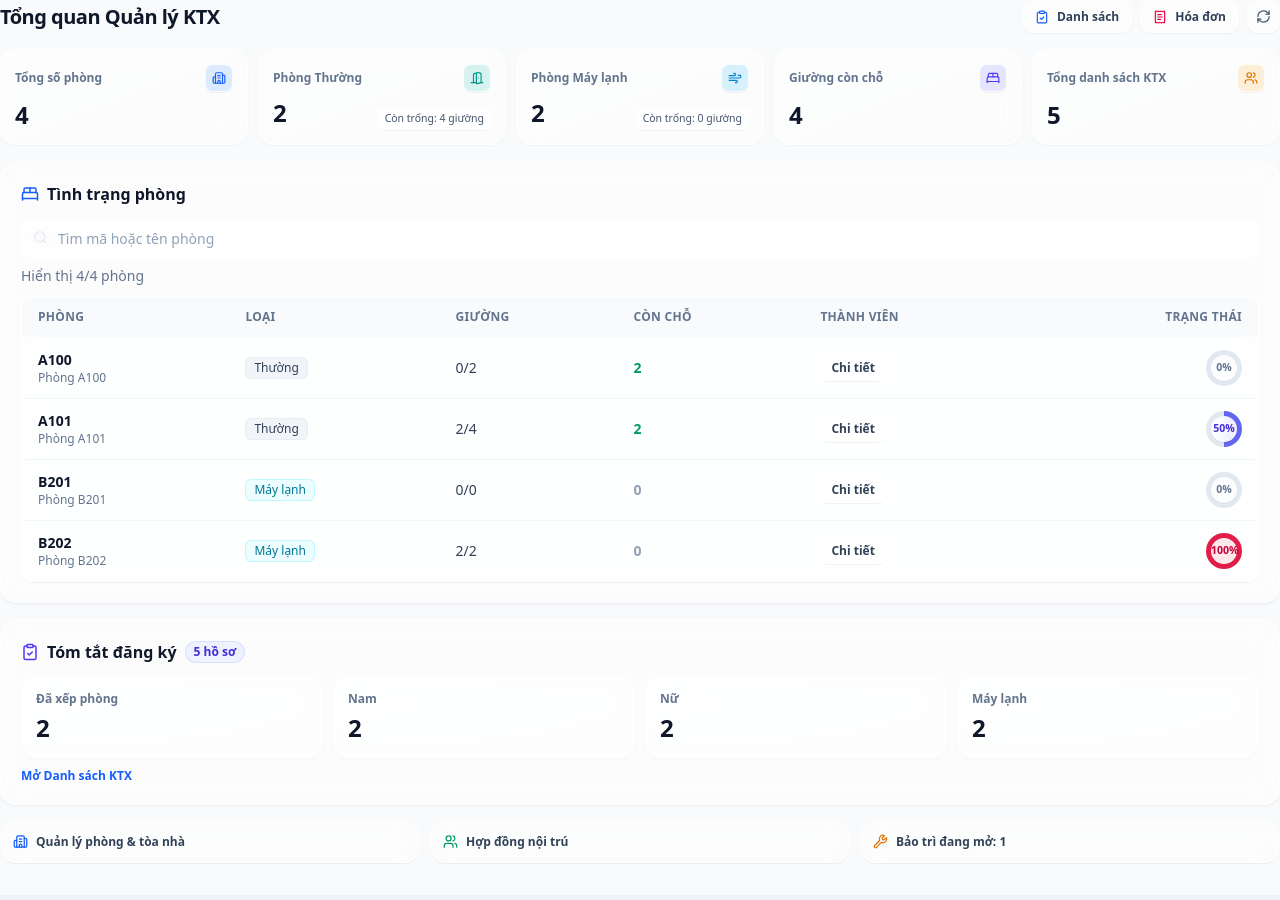
Scenario: DormitoryOverviewPage › does not render a leader marker when every member is an ordinary member
Check: the heading "Tổng quan Quản lý KTX" is shown, box 0,2 -> 220,30
Click the button with aria-label "Xem thành viên phòng A101".
click(853, 429)  # box 820,416 -> 886,442
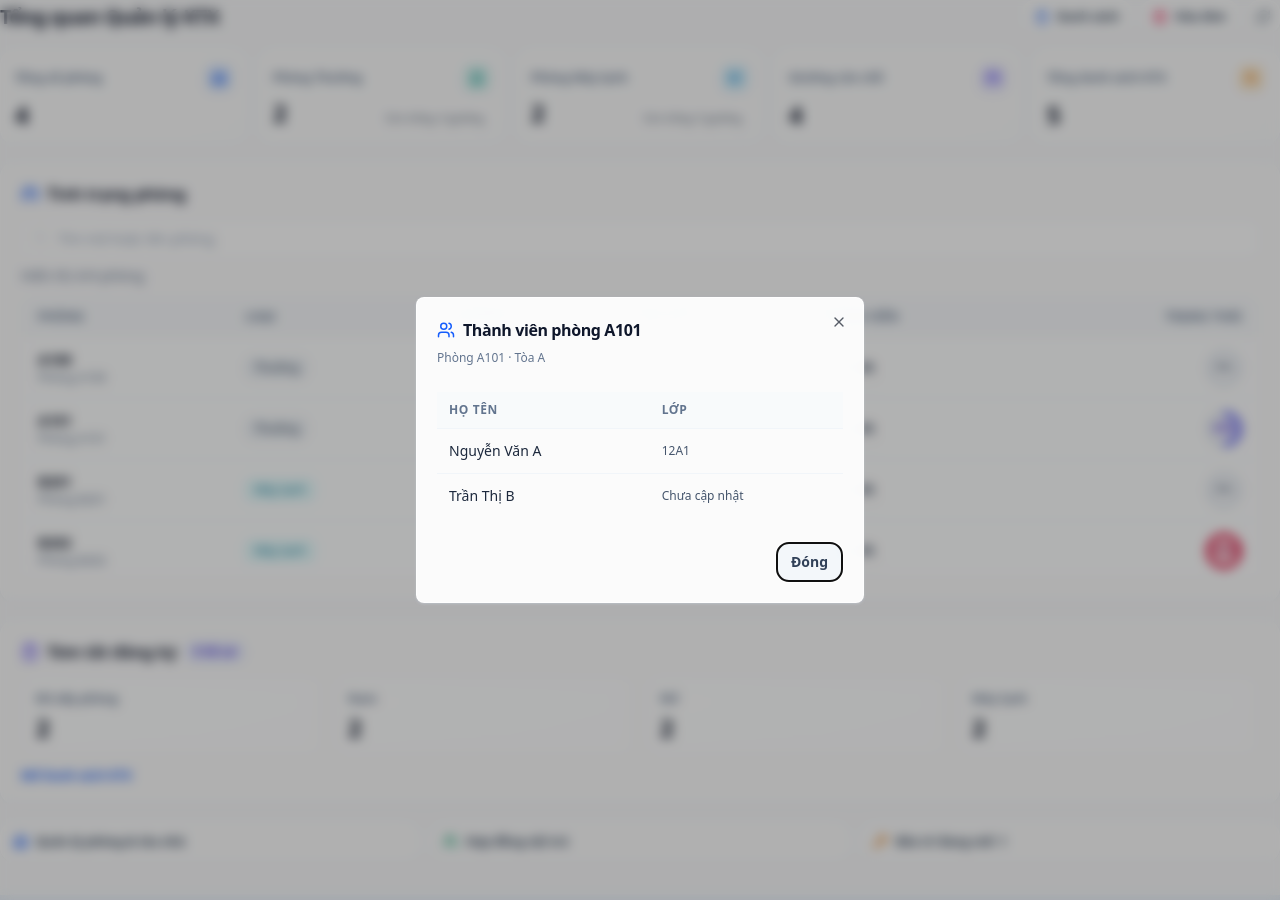
Check: the text "Chưa cập nhật" is shown, box 650,474 -> 843,518
